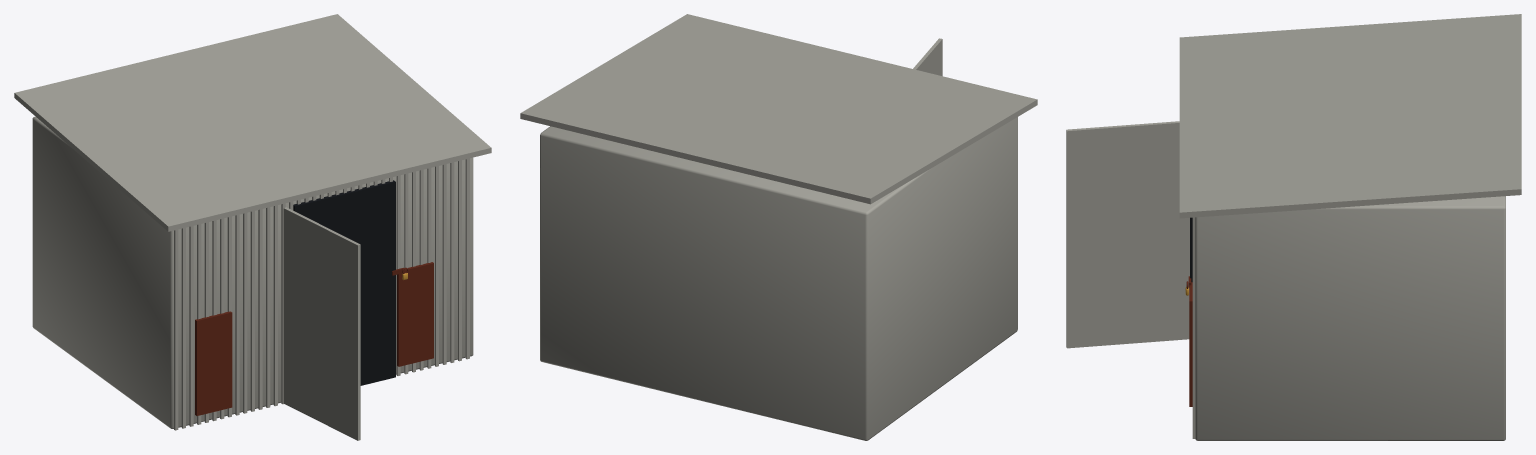
The model's file is shed.glb.
The picture shows the model from 3 angles, left to right: view 1: azimuth 30°, elevation 25°; view 2: azimuth 150°, elevation 25°; view 3: azimuth 270°, elevation 25°; orthographic projection. The views are drawn at different scales.
Visible parts, largest first — view 1: roof, walls, door_leaf, doorway, rust_0, rust_1, cor.008, cor.002, cor.009, cor.011, cor.038, cor (+18 smaller); view 2: walls, roof, door_leaf; view 3: walls, roof, door_leaf, cor.038, rust_1.
Boxes of the visible parts, <box> form: roof: <box>14,14,491,231</box>; walls: <box>32,116,473,428</box>; door_leaf: <box>283,207,360,440</box>; doorway: <box>293,180,395,385</box>; rust_0: <box>195,311,232,415</box>; rust_1: <box>397,262,433,366</box>; cor.008: <box>235,214,239,415</box>; cor.002: <box>189,226,193,426</box>; cor.009: <box>243,213,247,413</box>; cor.011: <box>258,209,262,409</box>; cor.038: <box>465,158,469,359</box>; cor: <box>174,229,178,430</box>; walls: <box>540,117,1017,440</box>; roof: <box>520,14,1037,204</box>; door_leaf: <box>913,38,942,76</box>; walls: <box>1195,196,1505,440</box>; roof: <box>1179,14,1521,218</box>; door_leaf: <box>1066,121,1189,348</box>; cor.038: <box>1192,217,1195,438</box>; rust_1: <box>1189,282,1192,406</box>.
Bounding box in the file's own units: 3.2 × 2.2 × 3.52.
